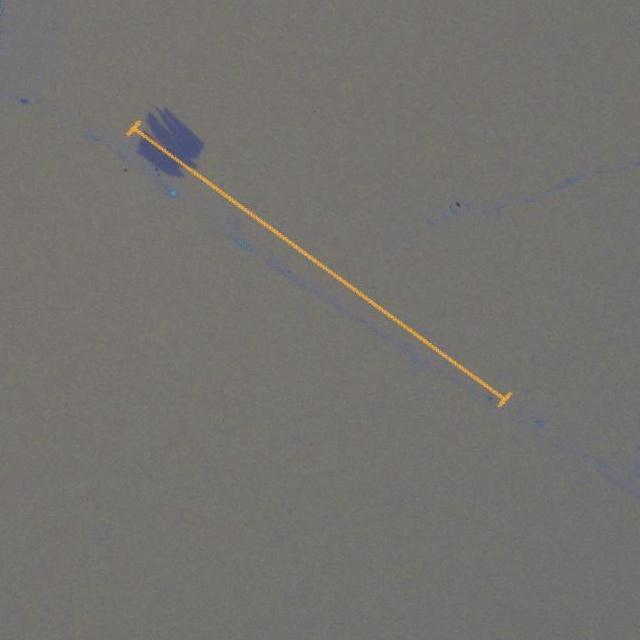monolayer-eWW4: (135, 102, 208, 178)
